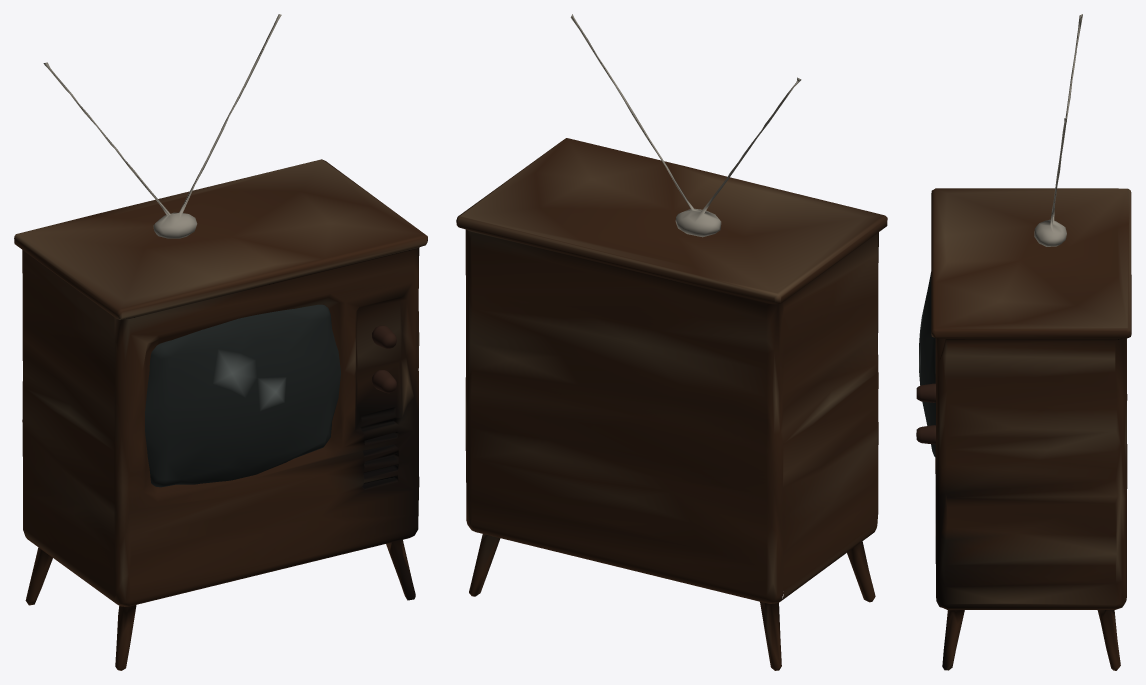
The model's file is tv_console.glb.
The picture shows the model from 3 angles, left to right: view 1: azimuth 30°, elevation 25°; view 2: azimuth 150°, elevation 25°; view 3: azimuth 270°, elevation 25°; orthographic projection. The views are drawn at different scales.
Visible parts, largest first — view 1: tv_console; view 2: tv_console; view 3: tv_console.
Boxes of the visible parts, x1,y1,x2,y2 form: tv_console: [14, 14, 427, 670]; tv_console: [456, 14, 887, 670]; tv_console: [916, 14, 1131, 670].
Size of the model in its own units: 0.8841 by 1.51 by 0.5629.
